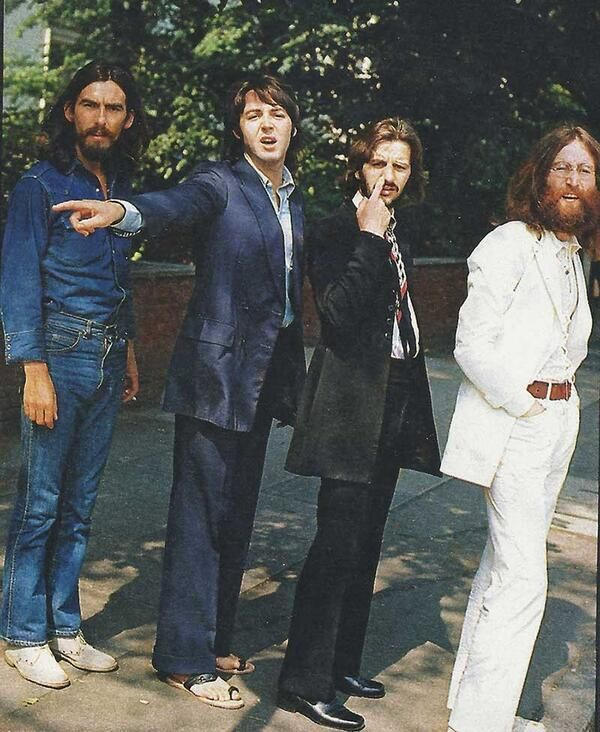people: (496, 111, 600, 283), (32, 47, 153, 187), (215, 66, 323, 198), (341, 99, 431, 241)
